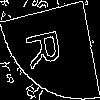R: (25, 24, 70, 70)
